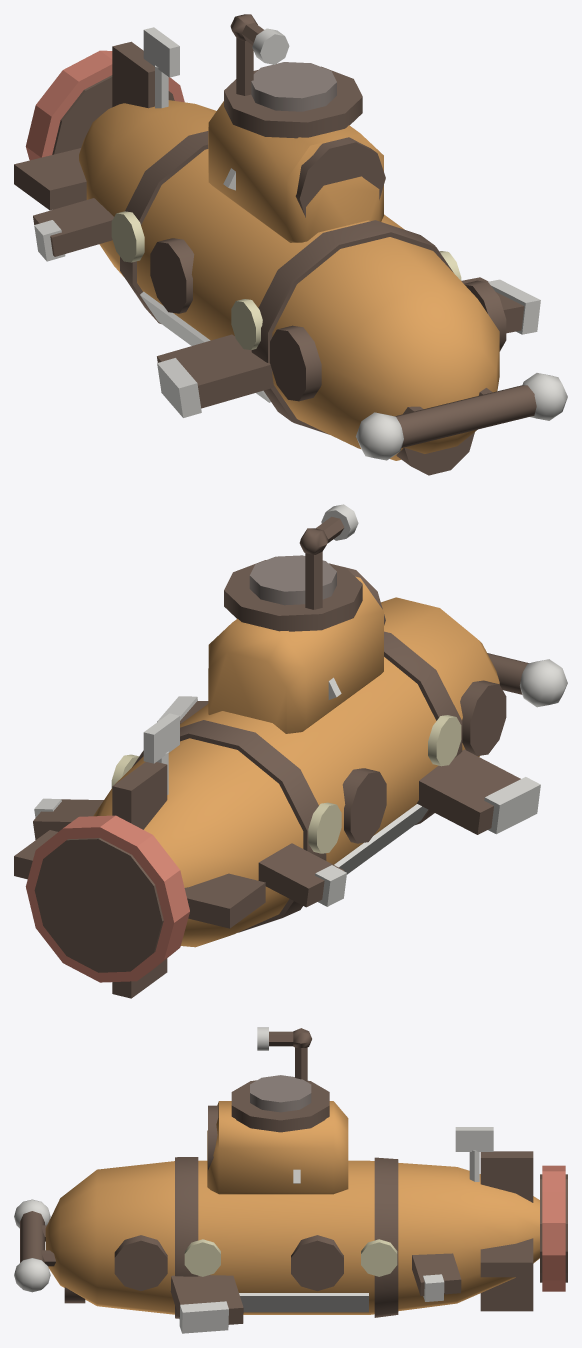
Rendered from submarines_ReefRunner.glb.
3 renders of one model, top to bottom at view 1: azimuth 30°, elevation 25°; view 2: azimuth 150°, elevation 25°; view 3: azimuth 270°, elevation 25°, orthographic. The views are drawn at different scales.
Visible parts, largest first — view 1: Hull, Hull_Glow; view 2: Hull, Hull_Glow; view 3: Hull, Hull_Glow.
Part boxes in pixels (x1,y1,x2,y2): Hull: (14, 14, 567, 475); Hull_Glow: (111, 211, 461, 349); Hull: (14, 504, 567, 998); Hull_Glow: (111, 715, 461, 853); Hull: (14, 1027, 567, 1333); Hull_Glow: (184, 1239, 397, 1276).
Bounding box in the file's own units: 20.96 × 20.21 × 37.7.
